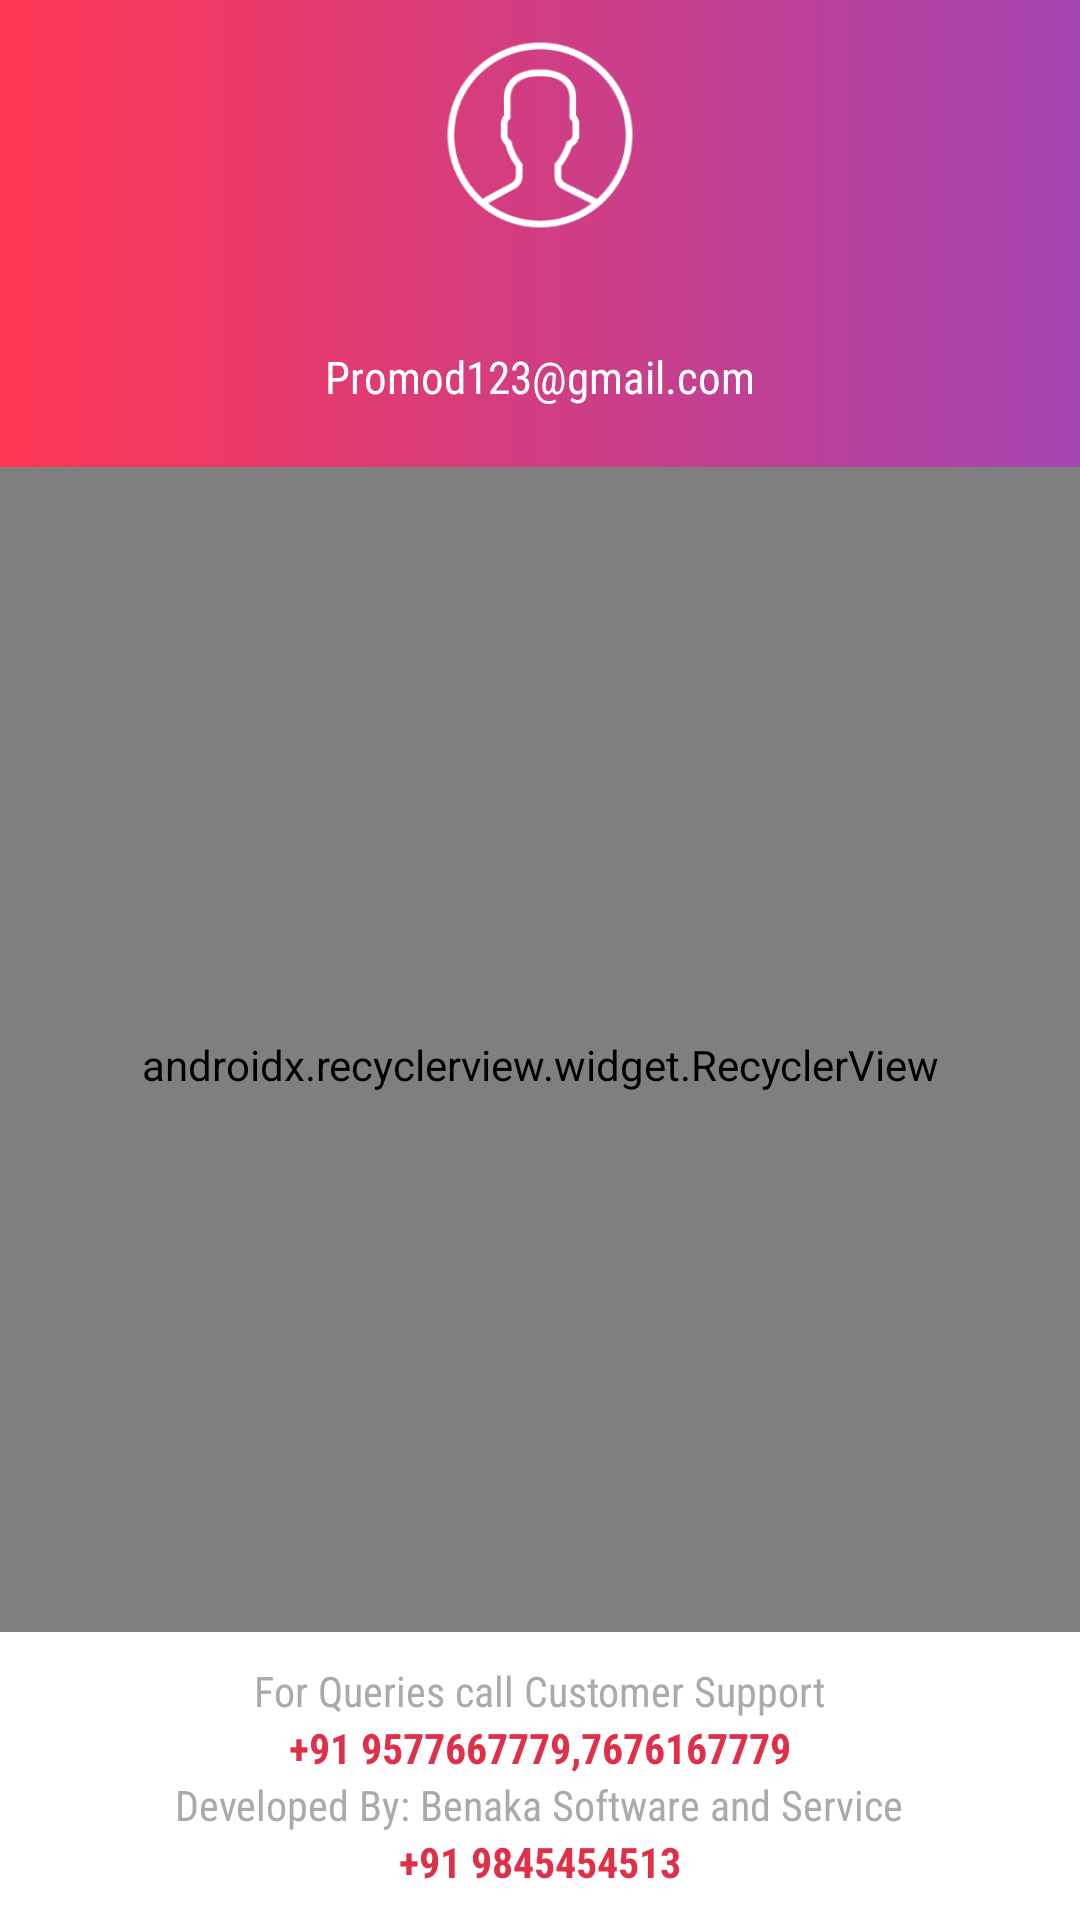

Icon bounding boxes for this 1080*1920 phone screenshot, format (x1, y1, x2, y2):
user: (447, 42, 633, 228)
